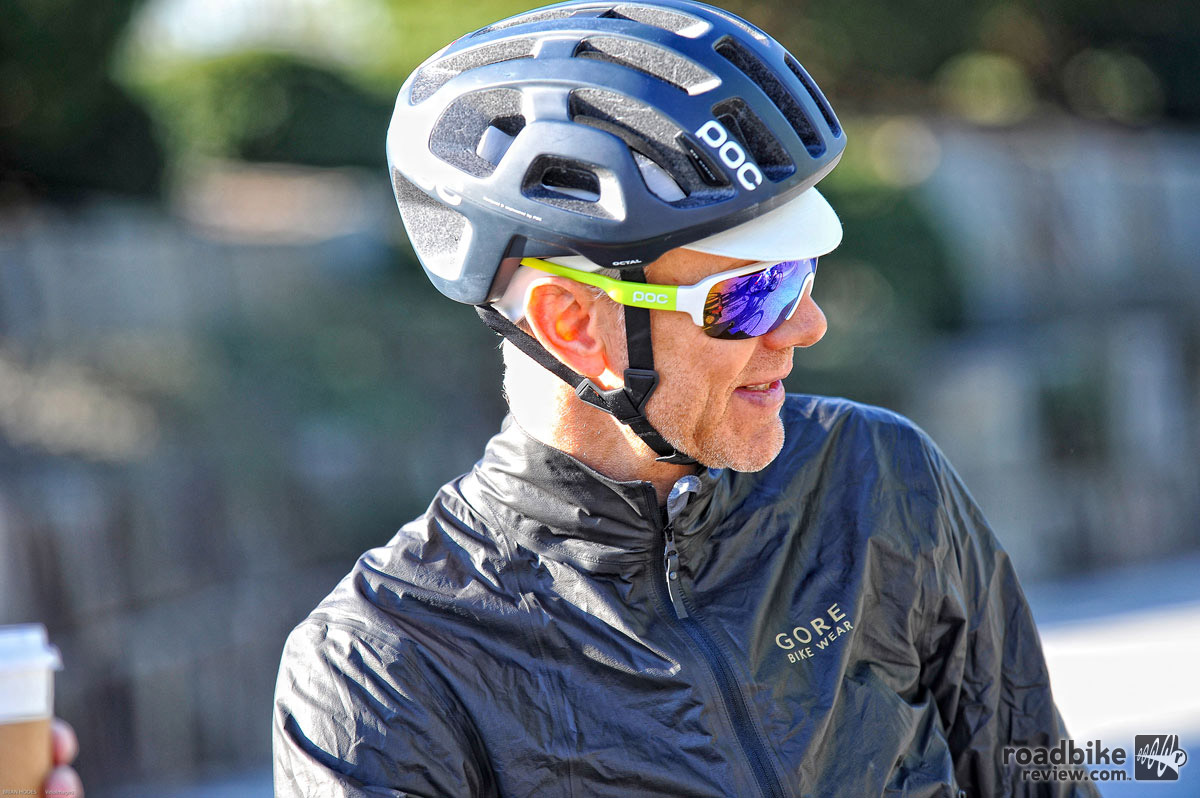helmet: (384, 9, 852, 257)
